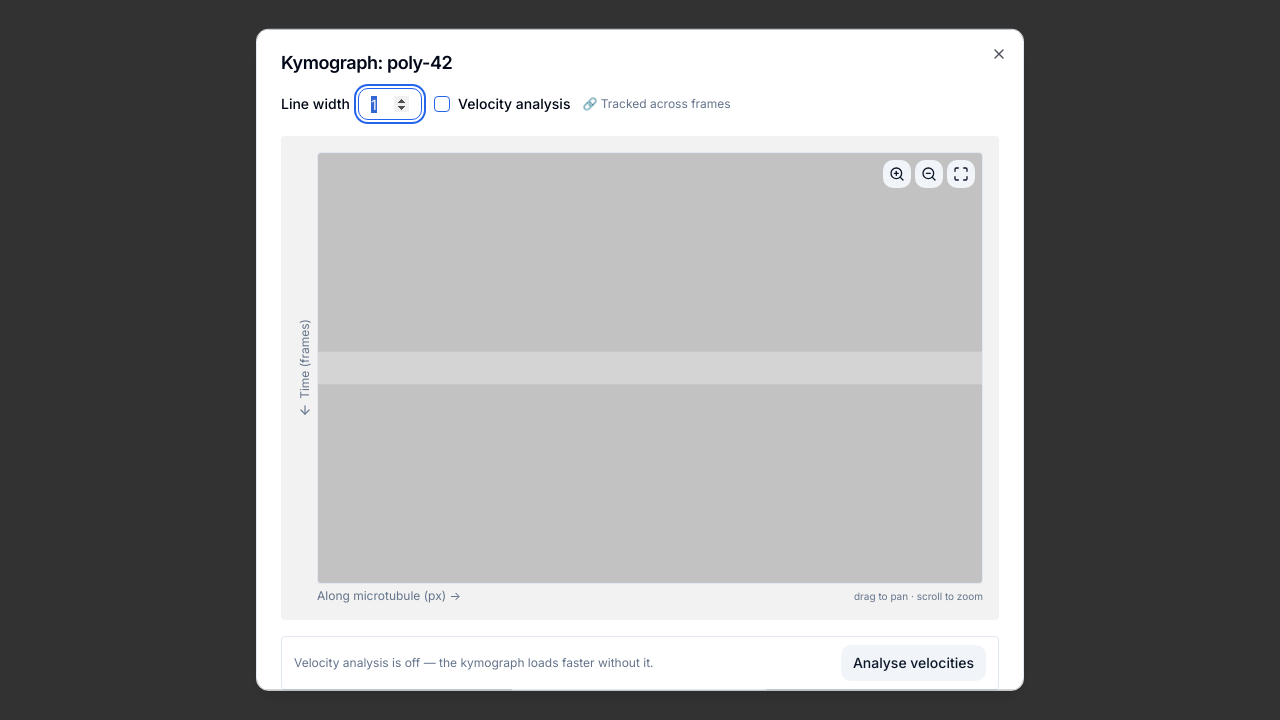
KymographModal › Velocity analysis is opt-in › reads a velocity request that cannot start as pending, not as "none found"
Click the button "Analyse velocities".
click(913, 663)  # box [841, 645, 986, 681]
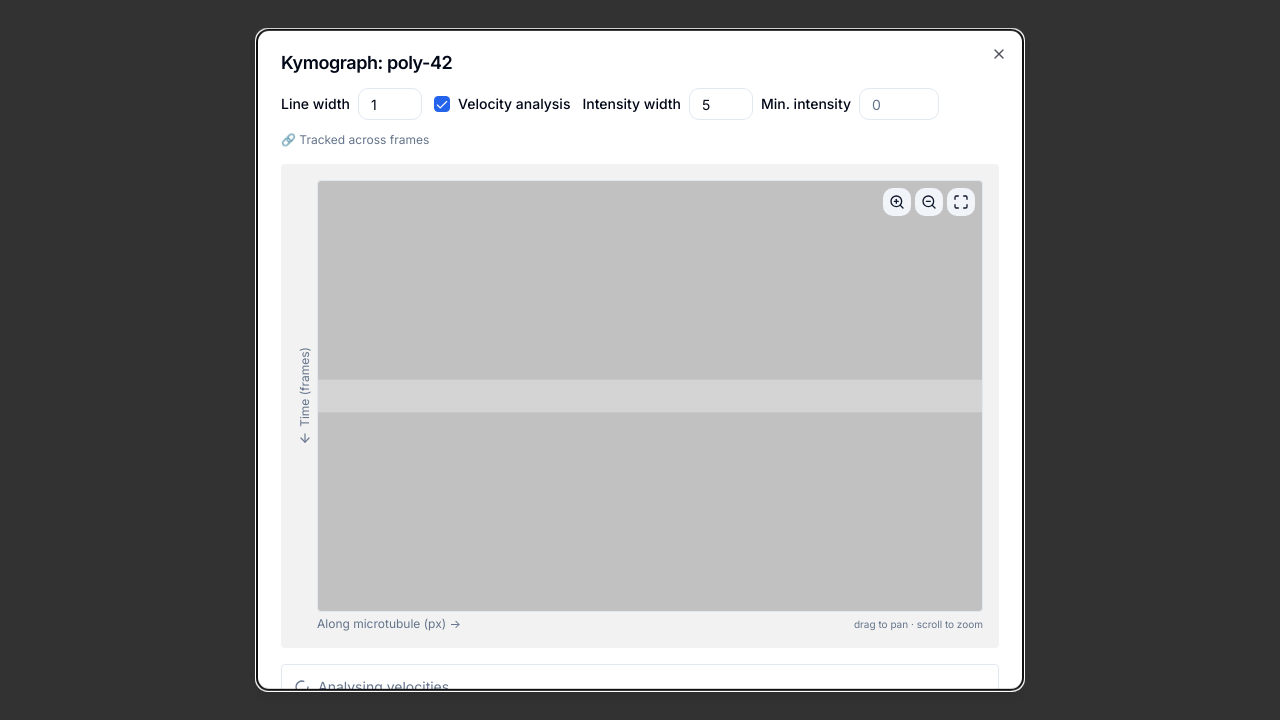
Check: the text "Analysing velocities…" is shown, box [318, 678, 461, 691]
